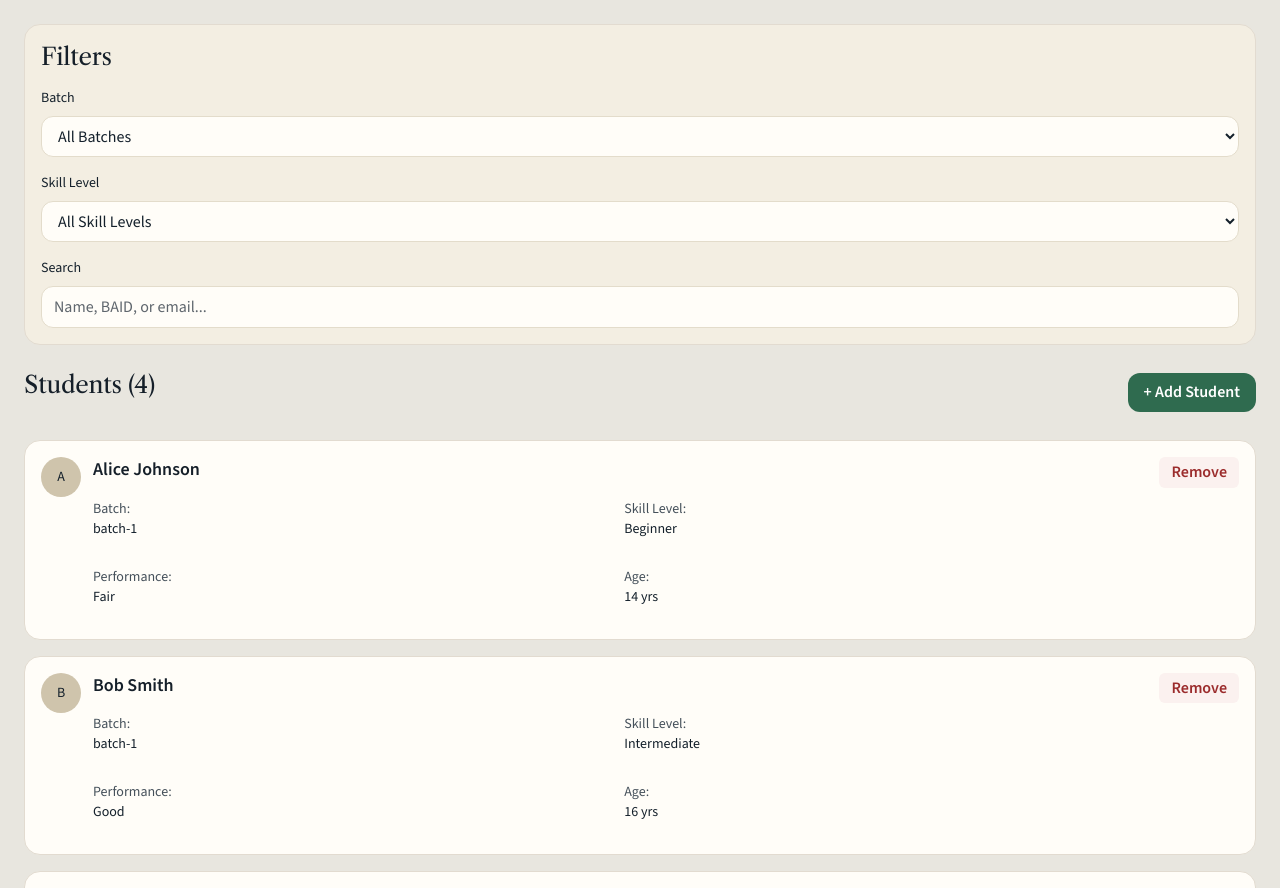
CoachStudentsTab › Filtering › filters students by search text (name)
Type "Alice" into the field named "Search students by name, BAID, or email".
click(640, 307); type("Alice")  # box [41,286,1239,328]
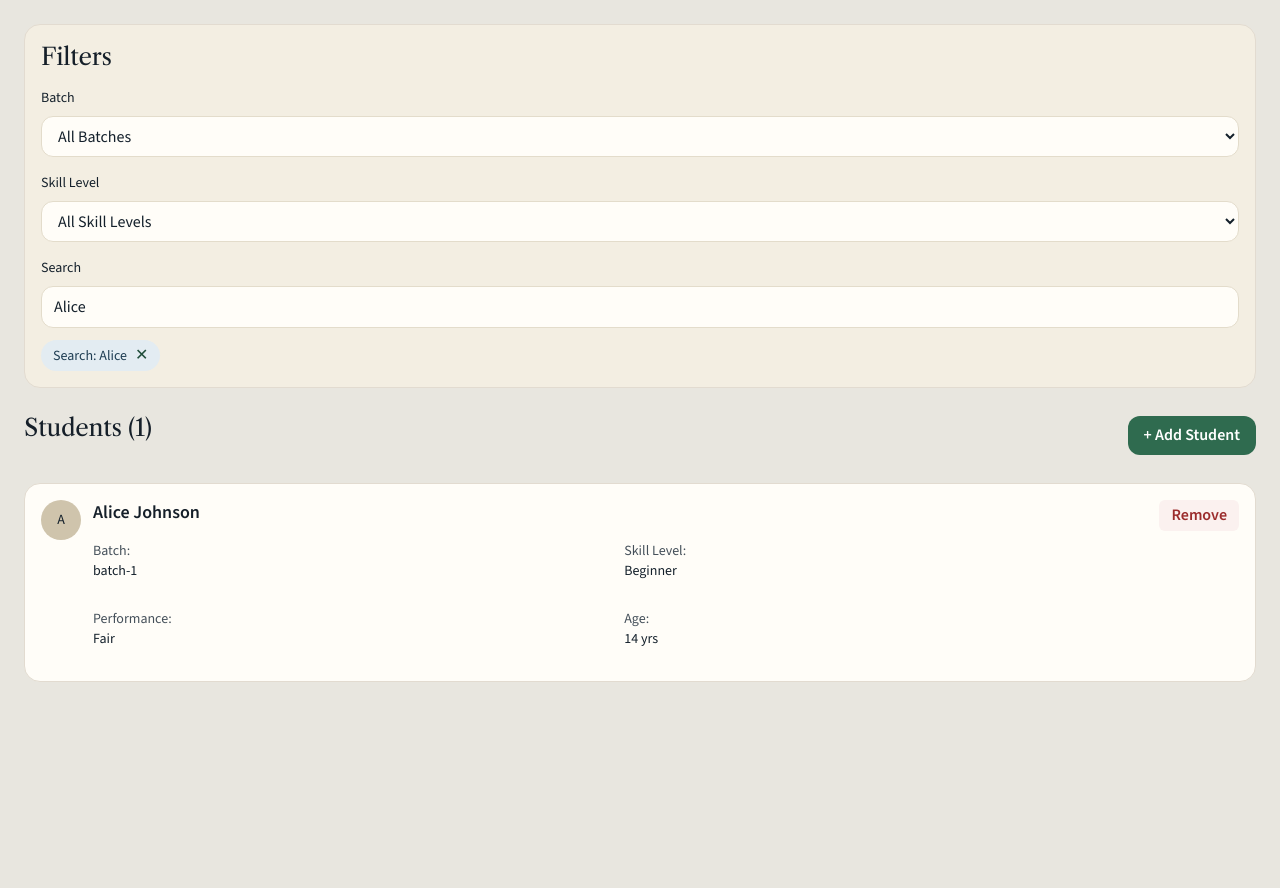
expect the heading "Alice Johnson" is shown: met, box [93,500,200,524]
expect the button "Bob Smith" is gone: met
